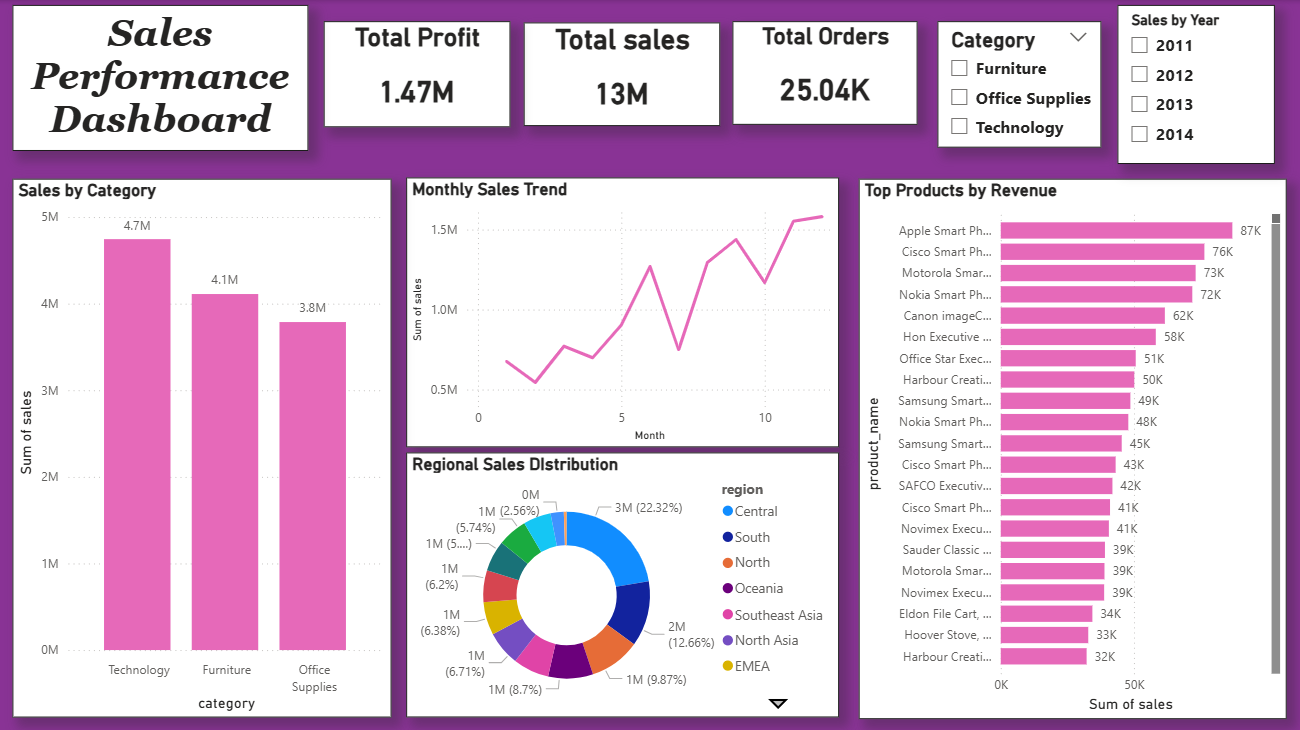

This screenshot's page, from the dashboard's own definition file:
{"tool":"powerbi","page":{"name":"Page 1","canvas":[1280,720],"ordinal":0},"visuals":[{"type":"card","title":"Total sales","fields":{"Values":["Sum(clean_sales_data.sales)"]},"box":[514.1,22.1,192.6,101.8],"z":0},{"type":"lineChart","title":"Monthly Sales Trend","fields":{"Category":["clean_sales_data.Month"],"Y":["Sum(clean_sales_data.sales)"]},"box":[398.8,174.2,424.5,265],"z":1},{"type":"columnChart","title":"Sales by Category","fields":{"Category":["clean_sales_data.category"],"Y":["Sum(clean_sales_data.sales)"]},"box":[12.3,175.5,371.8,528.8],"z":2},{"type":"donutChart","title":"Regional Sales DIstribution ","fields":{"Category":["clean_sales_data.region"],"Y":["Sum(clean_sales_data.sales)"]},"box":[398.8,444.2,424.5,260.1],"z":3},{"type":"clusteredBarChart","title":"Top Products by Revenue","fields":{"Category":["clean_sales_data.product_name"],"Y":["Sum(clean_sales_data.sales)"]},"box":[842.9,175.5,419.6,530.1],"z":4},{"type":"card","title":"Total Profit","fields":{"Values":["Sum(clean_sales_data.profit)"]},"box":[317.8,20.9,182.8,104.3],"z":5},{"type":"card","title":"Total Orders","fields":{"Values":["Count(clean_sales_data.order_id)"]},"box":[719,20.9,181.6,101.8],"z":6},{"type":"textbox","box":[12.3,4.9,290.8,143.6],"z":8},{"type":"slicer","fields":{"Values":["clean_sales_data.category"]},"box":[920.3,20.9,160.7,123.9],"z":9},{"type":"slicer","fields":{"Values":["clean_sales_data.order_date.Variation.Date Hierarchy.Year"]},"box":[1096.9,4.9,154.6,155.8],"z":10}]}

Visuals, with their boxes in screenshot pixels (x1, y1, x2, y2), scaled from the page's 1280x720 canvas onto the 1300x730 screenshot:
"Total sales" card: region(522, 22, 718, 126)
"Monthly Sales Trend" lineChart: region(405, 177, 836, 445)
"Sales by Category" columnChart: region(12, 178, 390, 714)
"Regional Sales DIstribution " donutChart: region(405, 450, 836, 714)
"Top Products by Revenue" clusteredBarChart: region(856, 178, 1282, 715)
"Total Profit" card: region(323, 21, 508, 127)
"Total Orders" card: region(730, 21, 915, 124)
textbox: region(12, 5, 308, 151)
slicer - clean_sales_data.category: region(935, 21, 1098, 147)
slicer - clean_sales_data.order_date.Variation.Date Hierarchy.Year: region(1114, 5, 1271, 163)
